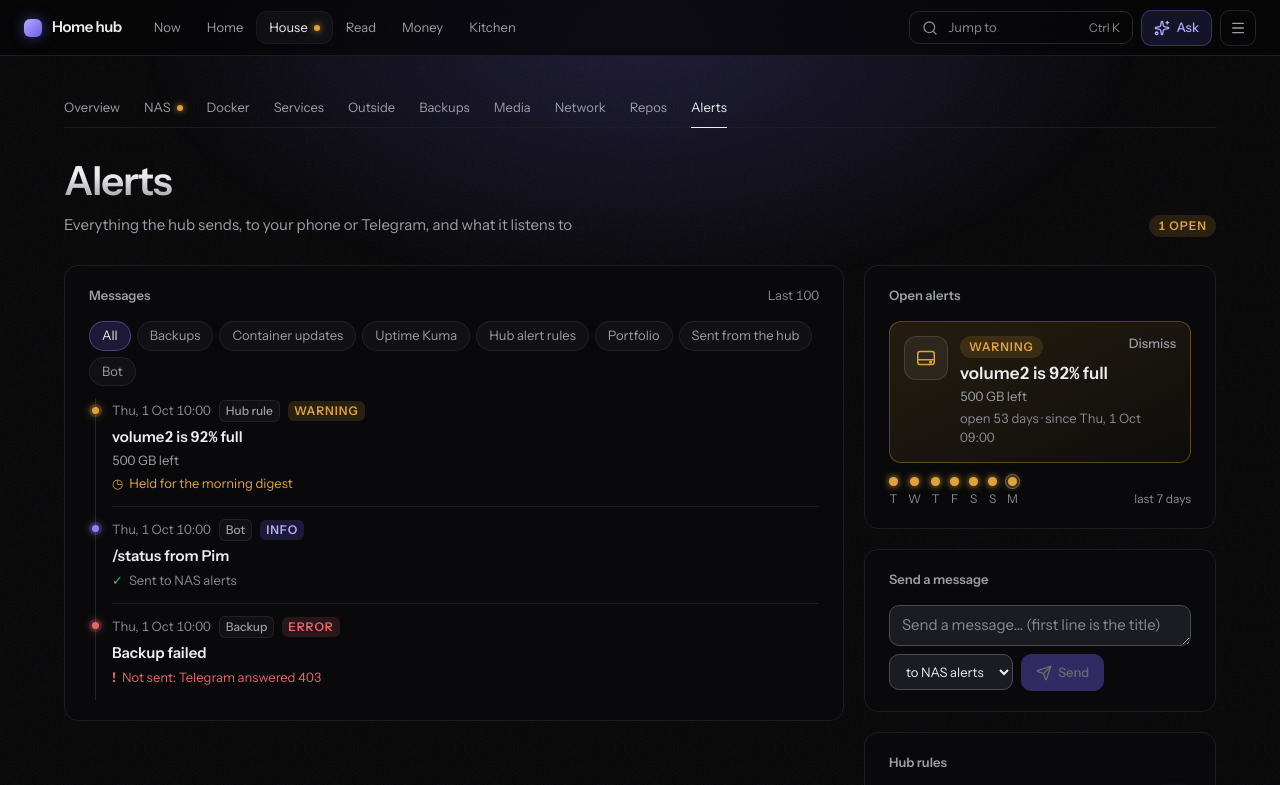
Test: AlertsPage › dismisses an open alert until it resolves and lists it below with Undo
Click the button with aria-label "Dismiss: volume2 is 92% full" at (1152, 344), box x1=1129 y1=334 x2=1176 y2=354
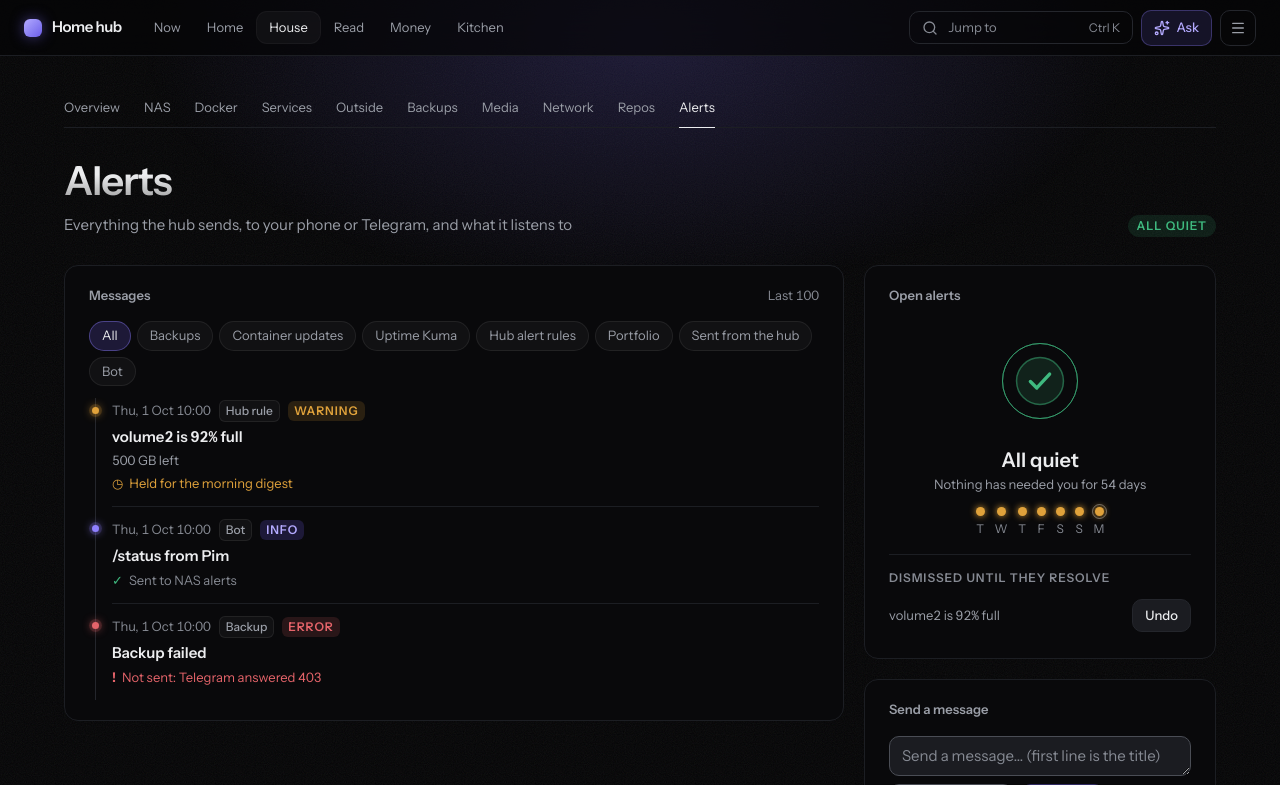
Expected: the list named "Dismissed" shows "volume2 is 92% full", x1=889 y1=606 x2=1000 y2=622
Expected: the text "All quiet" below "Open alerts" is shown, x1=1001 y1=448 x2=1079 y2=472
Expected: the text "1 open" is gone
Click the button "Undo" at (1162, 615), box x1=1132 y1=598 x2=1191 y2=632
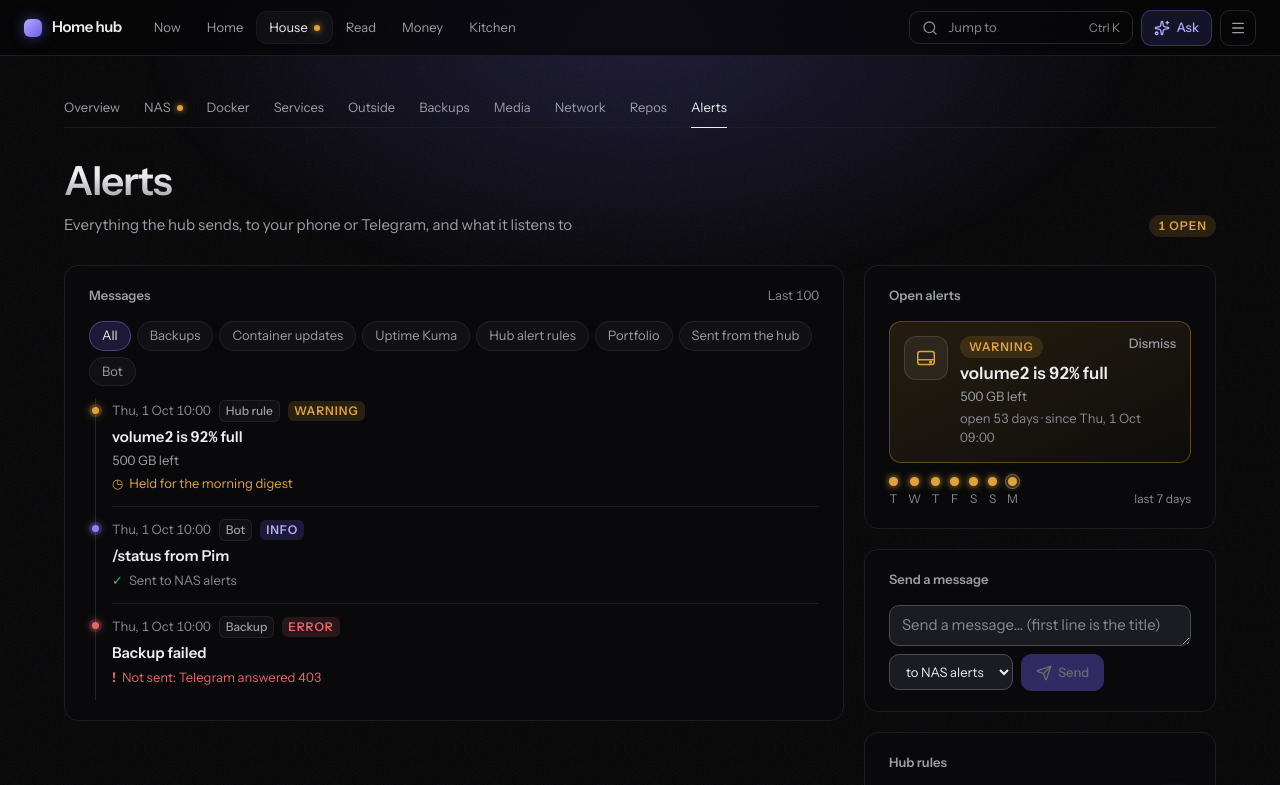
Expected: the text "1 open" is shown, x1=1149 y1=214 x2=1216 y2=236
Expected: the text "Dismissed" is gone
